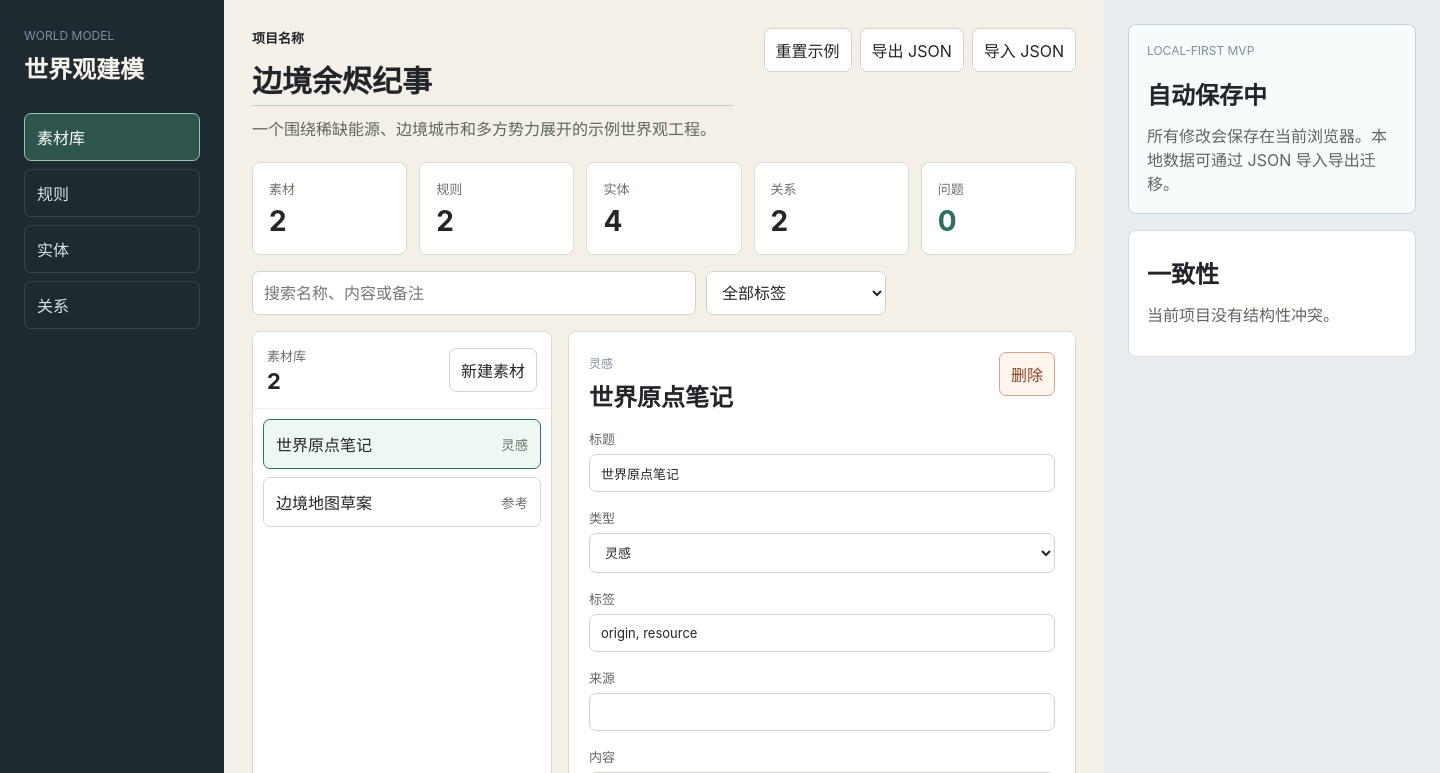
Test: App MVP flows › creates a material and shows it in the editor
What coordinates should you click on to do the following:
click the button "新建素材"
I would click on:
 (493, 370)
Its box is left=449, top=348, right=537, bottom=392.
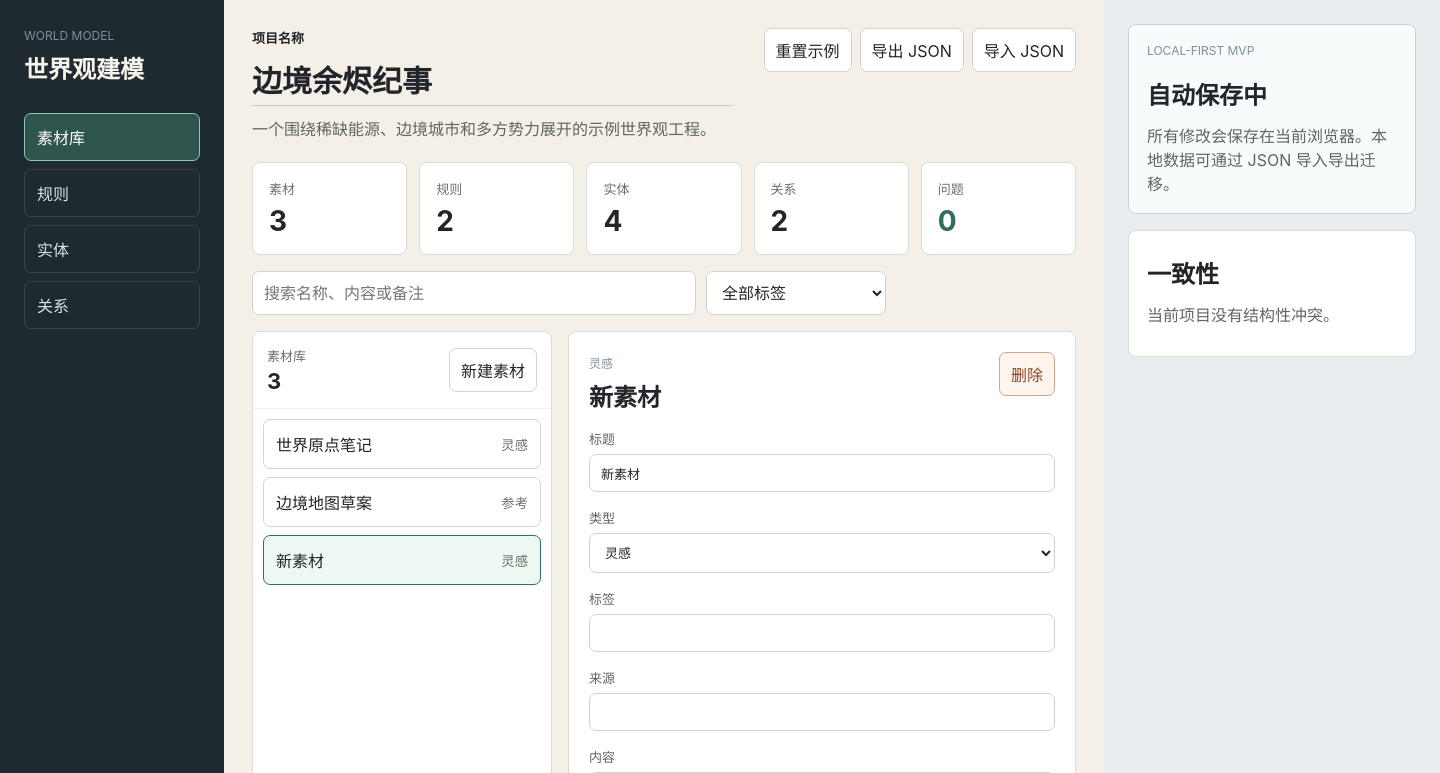
expect the field showing "新素材" is shown: met, box left=589, top=454, right=1055, bottom=492
